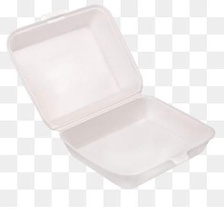foam_box: (0, 0, 222, 195)
